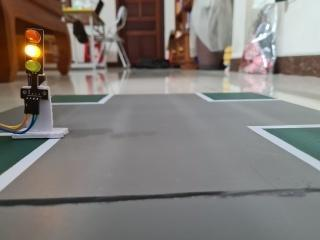yellow: (13, 20, 55, 82)
